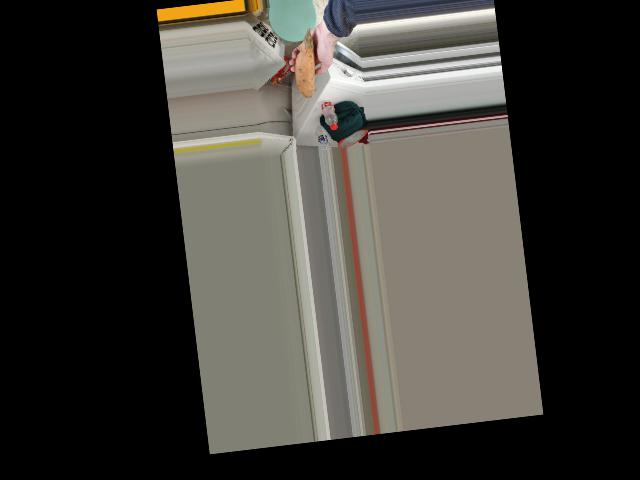sweet_potato: (286, 21, 315, 96)
